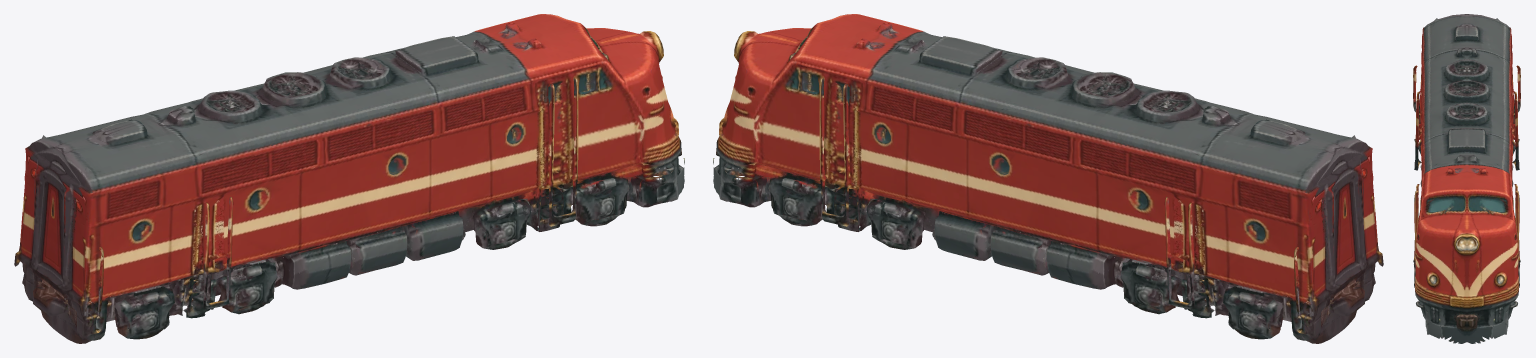
3 views of the same model, side by side, from view 1: azimuth 30°, elevation 25°; view 2: azimuth 150°, elevation 25°; view 3: azimuth 270°, elevation 25° (orthographic). The views are drawn at different scales.
Visible parts, largest first — view 1: body, body.mirror; view 2: body.mirror, body; view 3: body, body.mirror.
Boxes of the visible parts, <box> form: body: <box>39,23,684,343</box>; body.mirror: <box>14,14,654,333</box>; body.mirror: <box>713,23,1358,343</box>; body: <box>743,14,1383,333</box>; body: <box>1413,14,1466,343</box>; body.mirror: <box>1467,14,1520,343</box>.
Bounding box in the file's own units: 15.58 × 4.58 × 3.31.
1 material, 1 textured.
